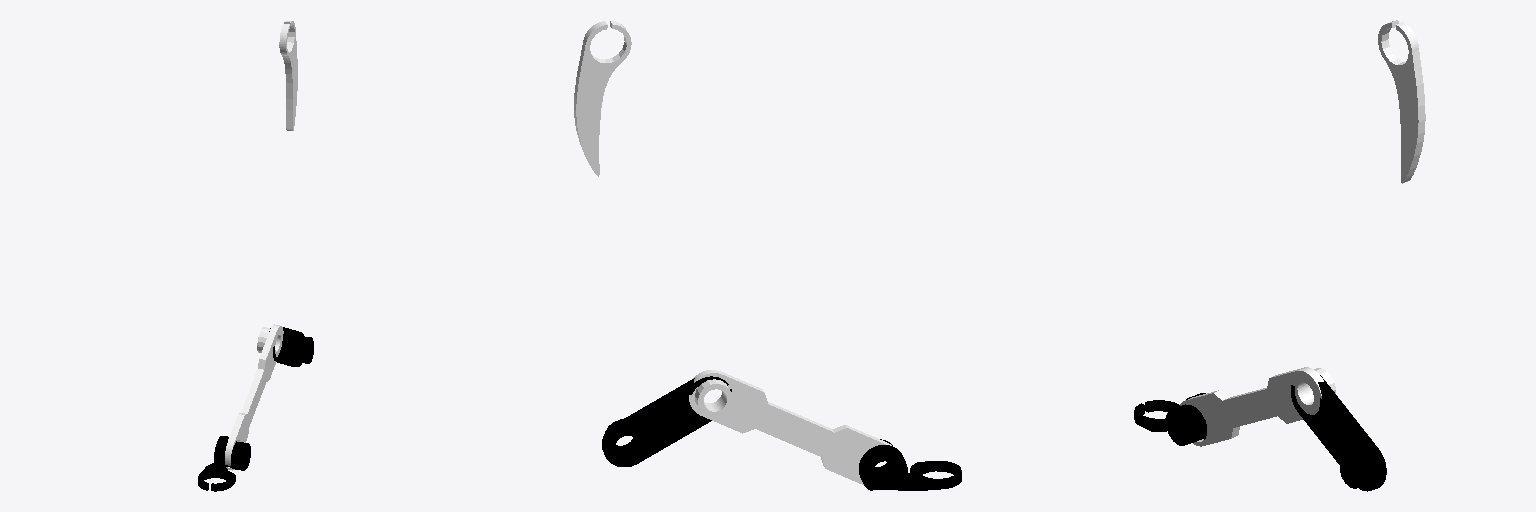
robot.urdf — spider:
<?xml version="1.0"?>
<robot name="spider">

  <material name="blue">
    <color rgba="0 0 0.8 1"/>
  </material>
  <material name="black">
    <color rgba="0 0 0 1"/>
  </material>
  <material name="white">
    <color rgba="1 1 1 1"/>
  </material>

  <link name="base_link">
    <visual>
      <origin rpy="0.0 0 0" xyz="0 0 1"/>
      <geometry>
        <mesh filename="package://udm_spider/mesh/torso.stl" scale="0.05 0.05 0.05"/>
      </geometry>
      <material name="white"/>
    </visual>
  </link>

  <link name="root_link_1">
    <visual>
      <origin rpy="0 0 0.7" xyz="1.0 1.0 0.6"/>
      <geometry>
        <mesh filename="package://udm_spider/mesh/rootlink.stl" scale="0.05 0.05 0.05"/>
      </geometry>
      <material name="black"/>
    </visual>
  </link>

  <joint name="root_link_1_joint" type="fixed">
    <axis xyz="0 1 0"/>
    <parent link="base_link"/>
    <child link="root_link_1"/>
    <origin xyz="0 0.17 0.25"/>
  </joint>

  <link name="long_link_1">
    <visual>
      <origin rpy="-1.5 -0.5 0.7" xyz="1.50 1.15 0.8"/>
      <geometry>
        <mesh filename="package://udm_spider/mesh/long-link.stl" scale="0.05 0.05 0.05"/>
      </geometry>
      <material name="white"/>
    </visual>
  </link>

  <joint name="long_link_1_joint" type="revolute">
    <axis xyz="0 1 0"/>
    <limit effort="1000.0" lower="0.0" upper="1" velocity="0.5"/>
    <parent link="root_link_1"/>
    <child link="long_link_1"/>
    <origin xyz="0 0.17 0.25"/>
  </joint>

  <link name="link_1">
    <visual>
      <origin rpy="1.5 0.5 0.7" xyz="2.8 2.2 1"/>
      <geometry>
        <mesh filename="package://udm_spider/mesh/link1.stl" scale="0.05 0.05 0.05"/>
      </geometry>
      <material name="black"/>
    </visual>
  </link>

  <joint name="link_1_joint" type="revolute">
    <axis xyz="0 1 0"/>
    <limit effort="1000.0" lower="0.0" upper="1" velocity="0.5"/>
    <parent link="long_link_1"/>
    <child link="link_1"/>
    <origin xyz="0 0.17 0.25"/>
  </joint>

  <link name="leaf_link_1">
    <visual>
      <origin rpy="1.5 1.5 0.7" xyz="3.2 2.4 0.25"/>
      <geometry>
        <mesh filename="package://udm_spider/mesh/leaf-link.stl" scale="0.05 0.05 0.05"/>
      </geometry>
      <material name="white"/>
    </visual>
  </link>

  <joint name="leaf_link_1_joint" type="revolute">
    <axis xyz="0 1 0"/>
    <limit effort="1000.0" lower="0.0" upper="1" velocity="0.5"/>
    <parent link="long_link_1"/>
    <child link="leaf_link_1"/>
    <origin xyz="0 0.6 5"/>
  </joint>
</robot>

--- Facts derived from the render (not from the file) ---
The picture shows the robot from 3 angles, left to right: view 1: azimuth 30°, elevation 25°; view 2: azimuth 150°, elevation 25°; view 3: azimuth 270°, elevation 25°; orthographic projection.
Model spider with 5 links and 4 joints (3 revolute, 1 fixed), rooted at base_link, posed every joint at zero.
Links seen in each view (by area): view 1: long_link_1, root_link_1, leaf_link_1, link_1; view 2: long_link_1, link_1, leaf_link_1, root_link_1; view 3: long_link_1, link_1, leaf_link_1, root_link_1.
Boxes of the visible links, x1,y1,x2,y2 form: long_link_1: [225, 324, 283, 470]; root_link_1: [198, 436, 250, 491]; leaf_link_1: [279, 21, 297, 130]; link_1: [269, 327, 313, 366]; long_link_1: [689, 370, 891, 484]; link_1: [602, 376, 731, 466]; leaf_link_1: [574, 21, 631, 176]; root_link_1: [859, 439, 961, 490]; long_link_1: [1180, 367, 1335, 446]; link_1: [1291, 375, 1386, 491]; leaf_link_1: [1378, 20, 1425, 183]; root_link_1: [1134, 393, 1206, 445].
Size in the robot's own frame: 3.13 by 2.96 by 5.69 metres.
4 mesh visuals loaded from 5 distinct referenced files (4 ASCII STL); not drawn: 1 (reference not matched to a file when rendering).